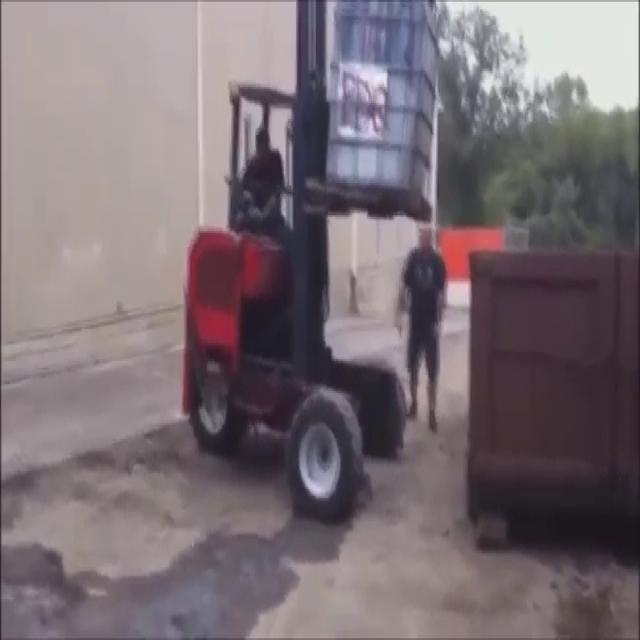Chariot elevateur: (180, 2, 443, 533)
